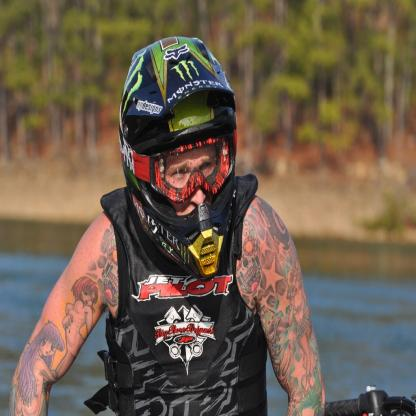Helmet: (117, 34, 240, 280)
